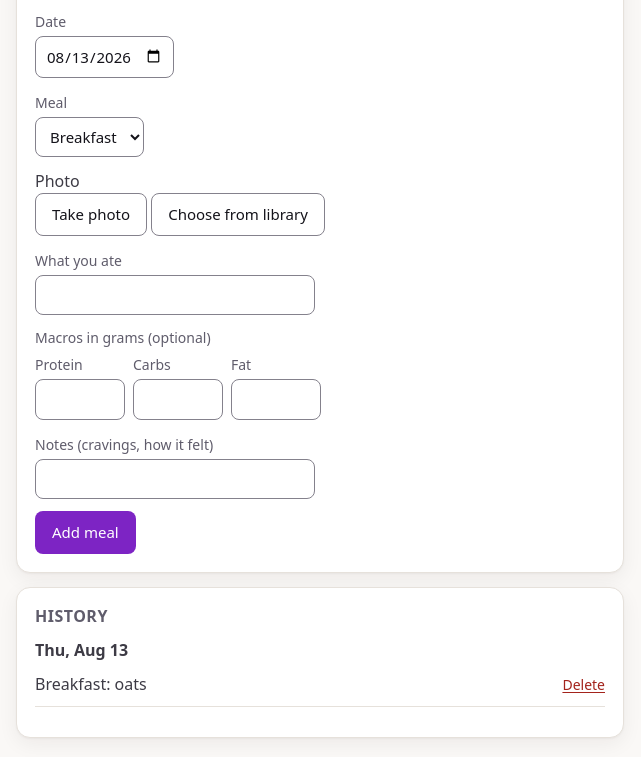
Test: Diet page › deletes a meal and forgets it
The image size is (641, 757).
(page scrolled)
What coordinates should you click on to do the following:
click the button "Delete"
I would click on:
 (584, 684)
Its box is [562,674,605,694].
(page scrolled)
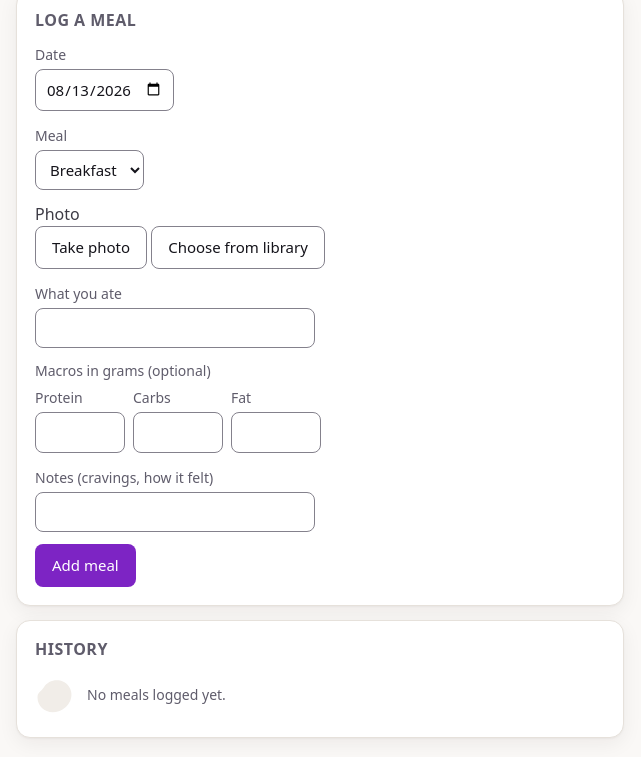
Result: the text "No meals logged yet." is shown at [87,684,226,705]
